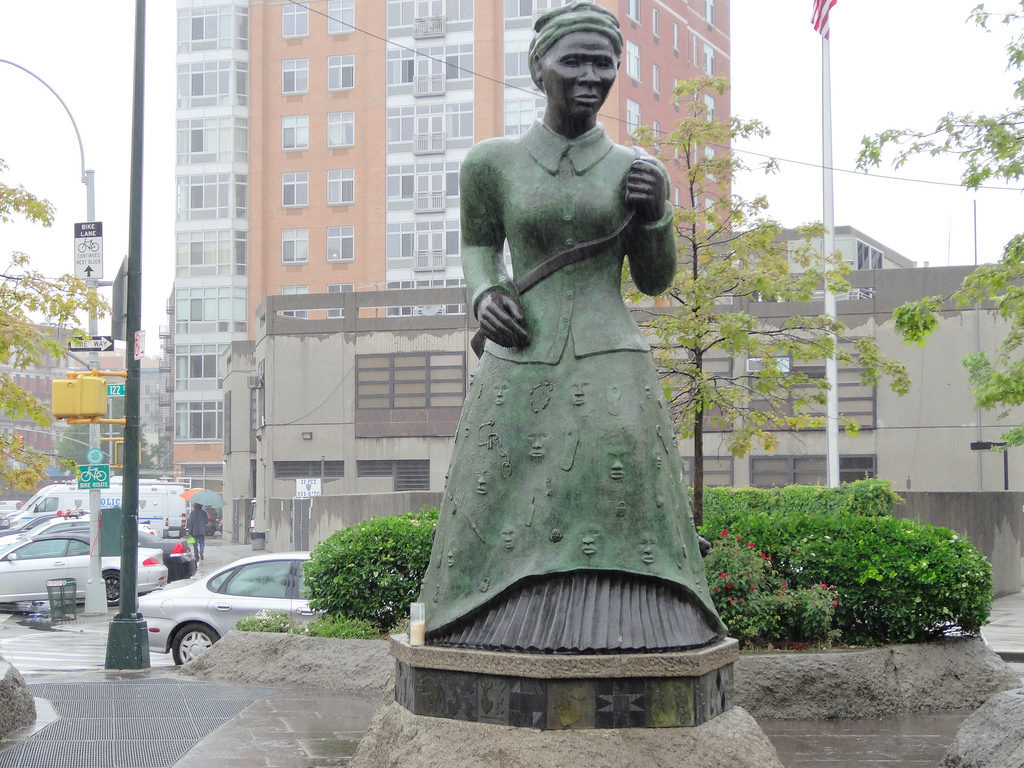person: (182, 497, 213, 562)
person-like: (419, 1, 732, 655)
